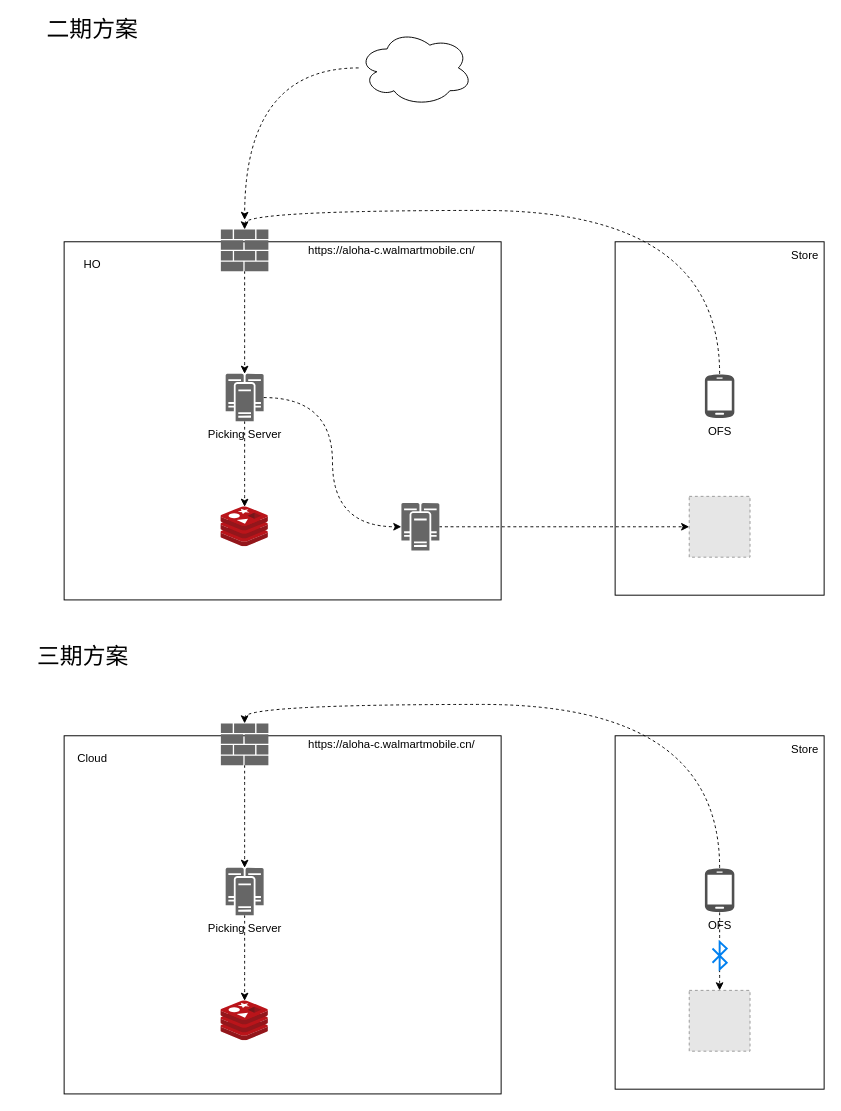
Image size: 841x1111. Some labels were removed from this diagram. Grey dashed boxes stand in for pictures. The centre of each missing label's shape, as x and y in pixels:
Cups Server: the point at 420,526
JDDJ.COM WMDJ MINI: the point at 415,67
